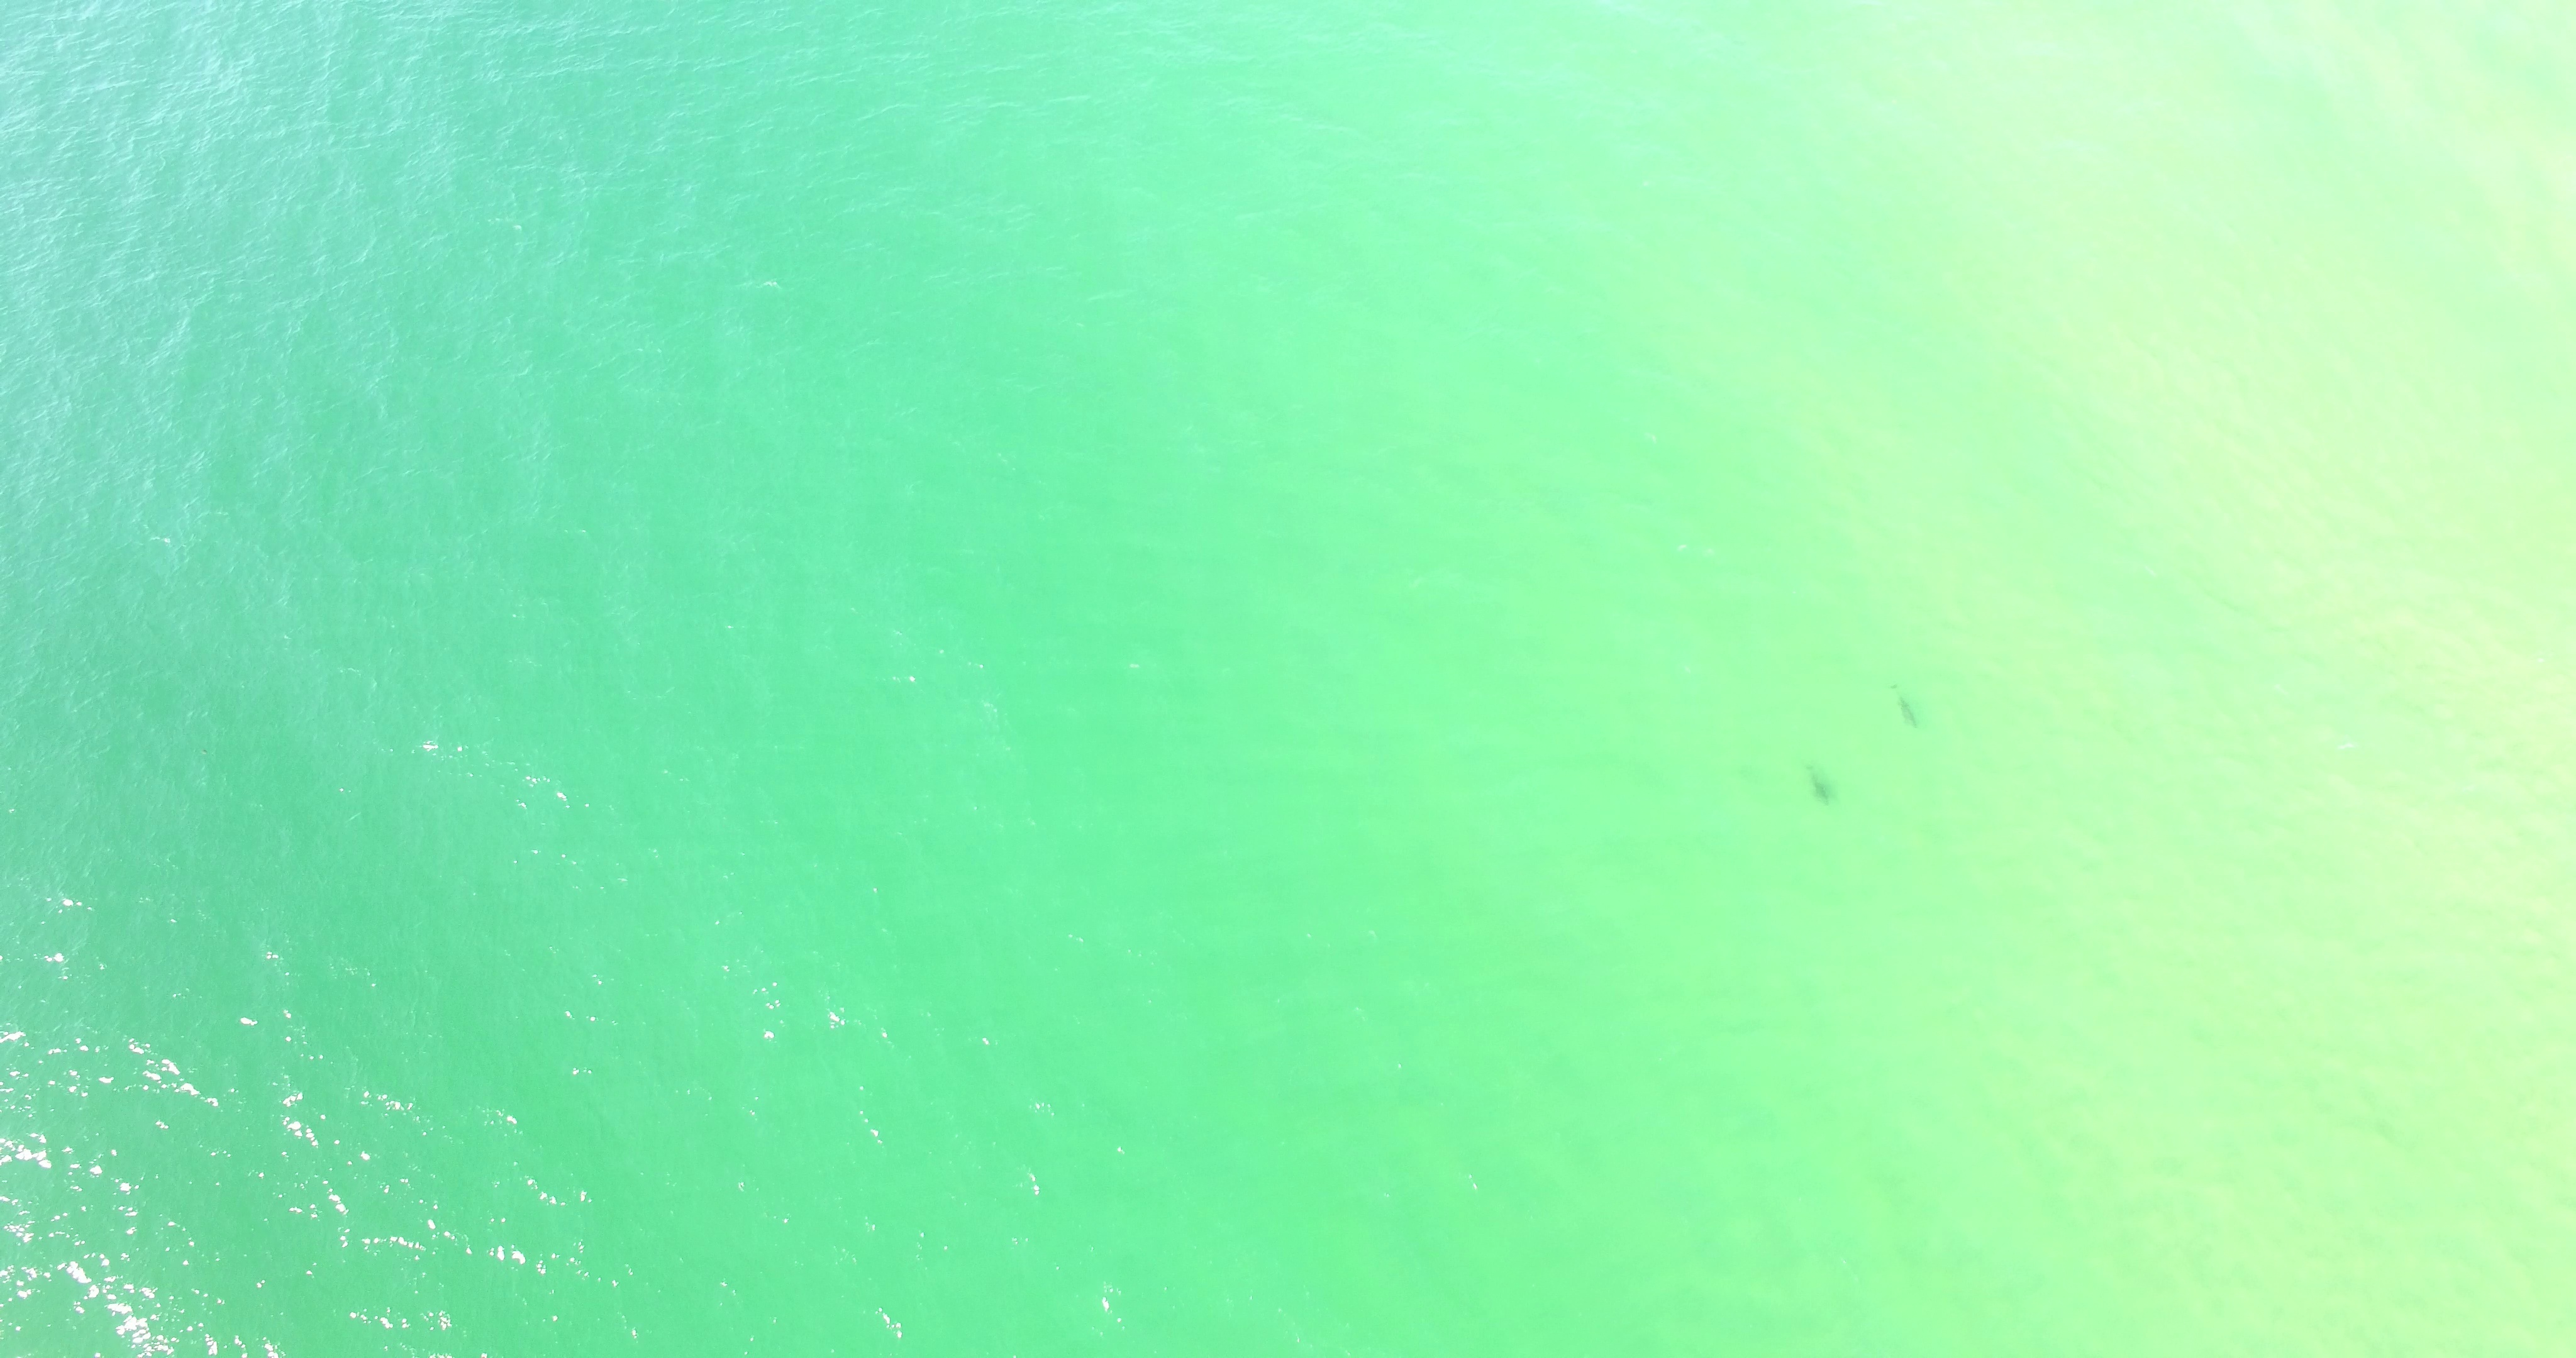dolphin: (1799, 763, 1835, 808), (1886, 685, 1920, 729)
